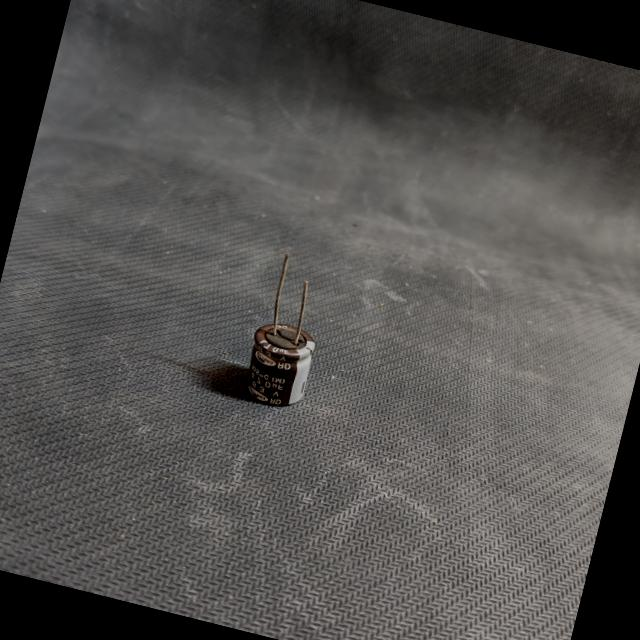capacitor: (224, 244, 346, 427)
